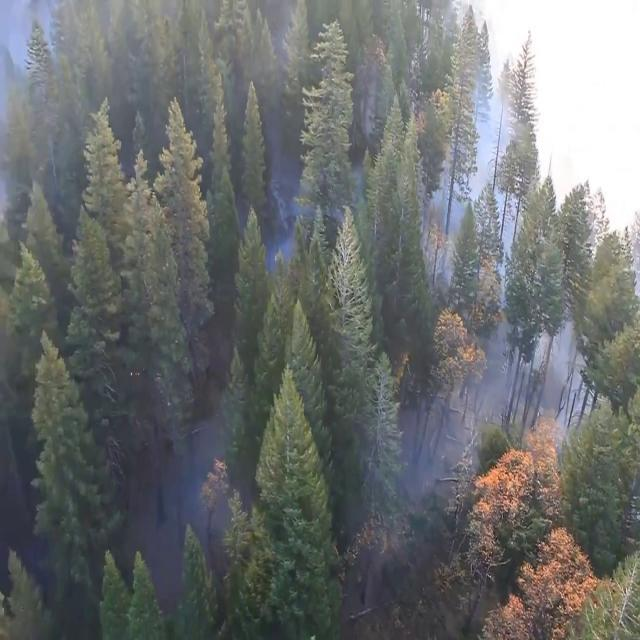Smoke: (401, 115, 558, 226), (182, 423, 252, 524), (412, 408, 454, 496)
